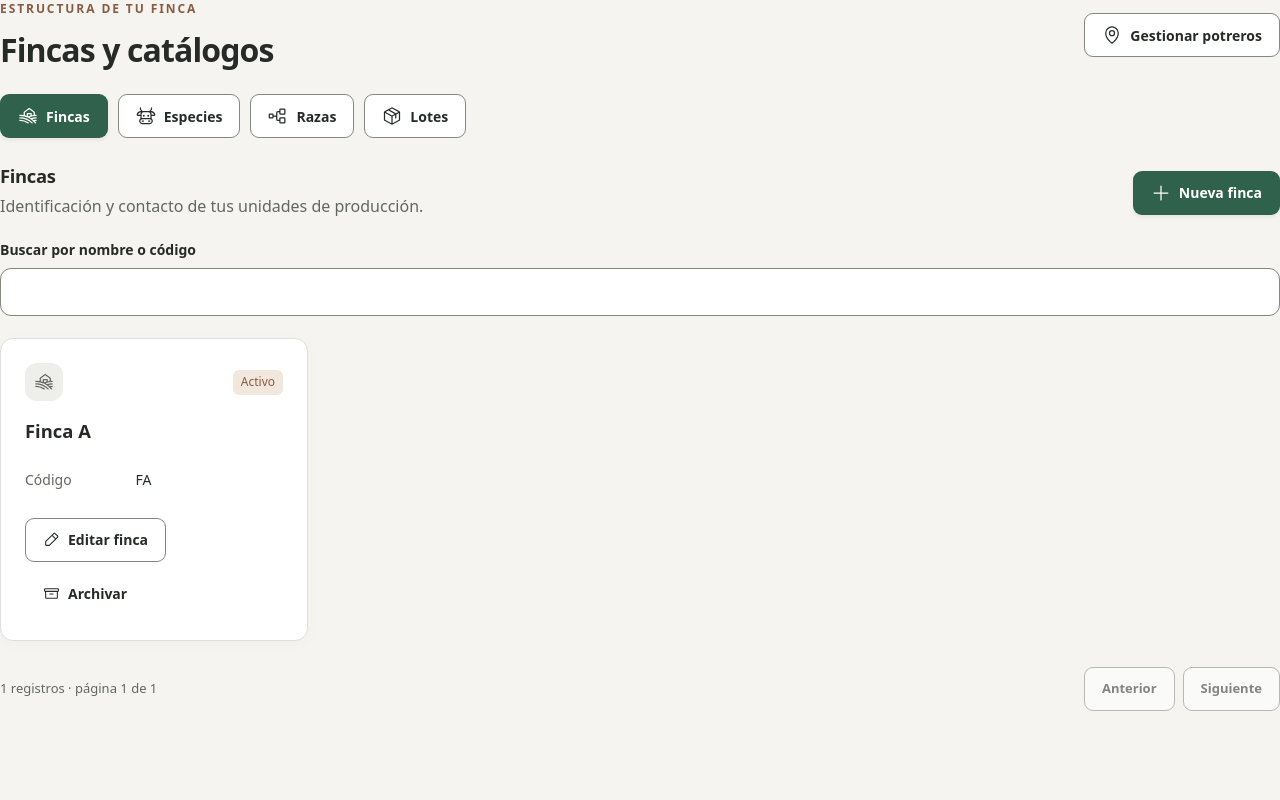
Test case: creates a farms record through its protected endpoint
Click the button "Nueva finca" at (1206, 193), box [1133, 171, 1279, 215]
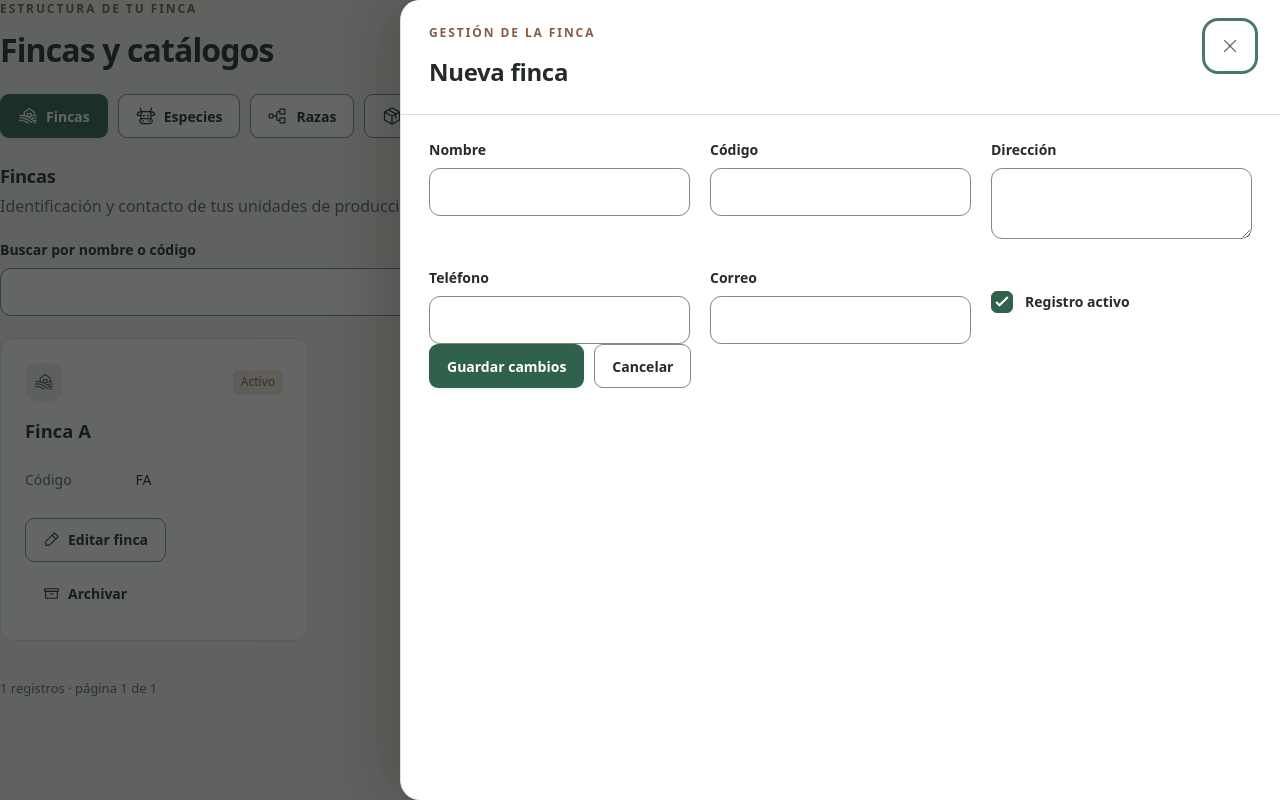
Type "Registro nuevo" into the field labelled "Nombre" at (560, 192), box [429, 168, 690, 216]
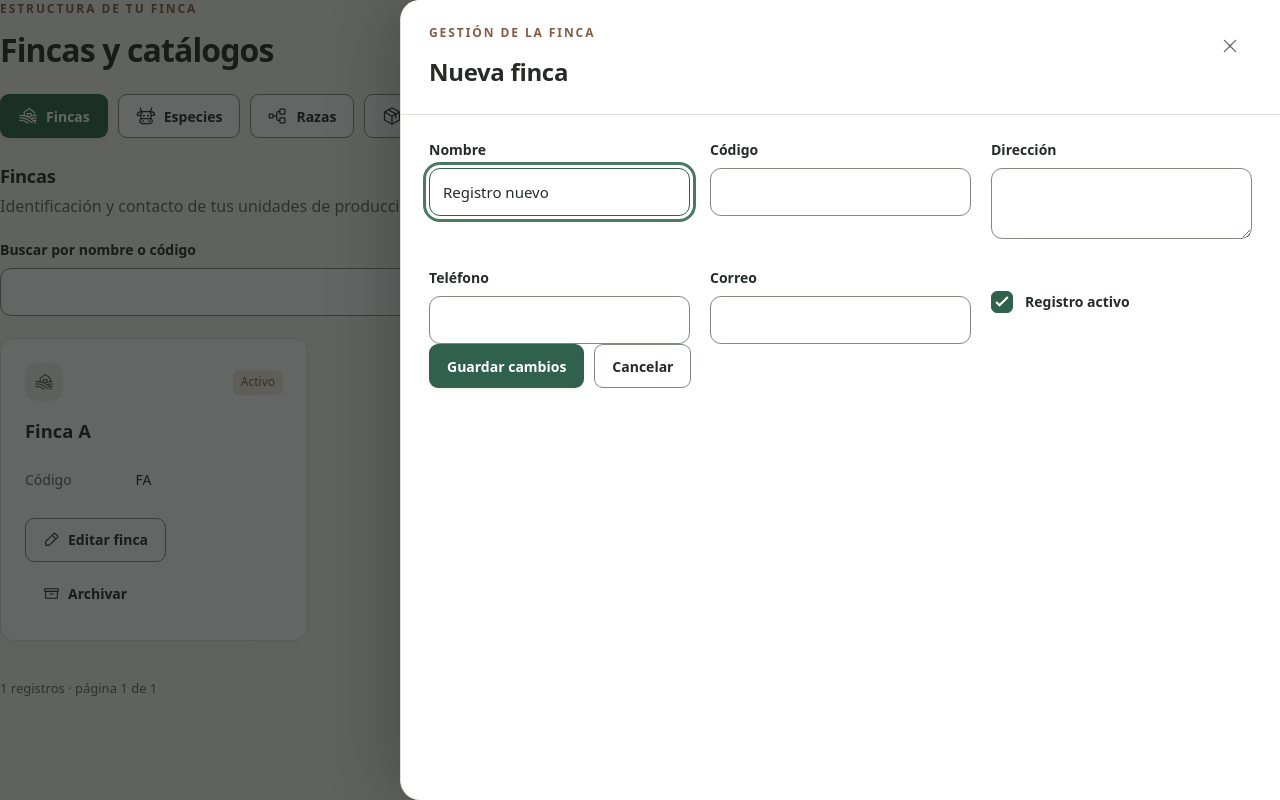
Type "NEW" into the field labelled "Código" at (840, 192), box [710, 168, 971, 216]
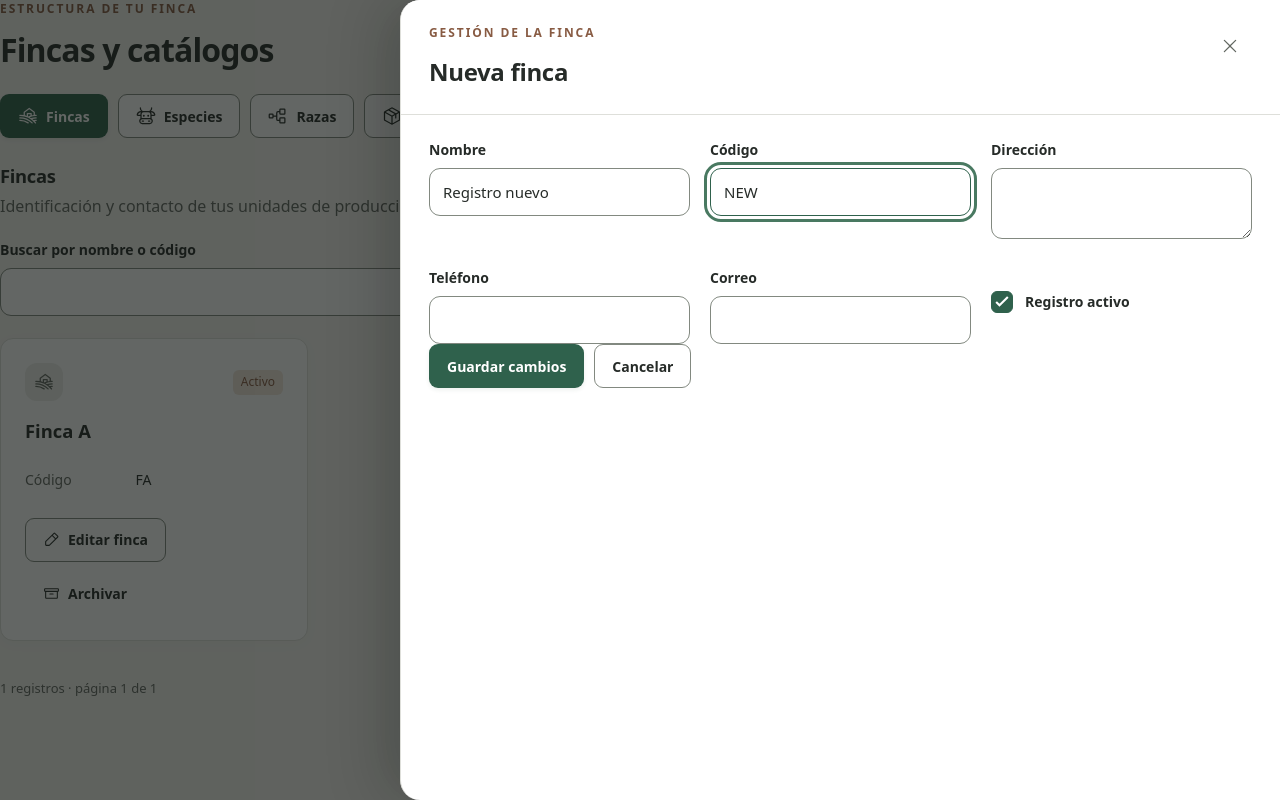
Click the button "Guardar cambios" at (507, 366), box [429, 344, 584, 388]
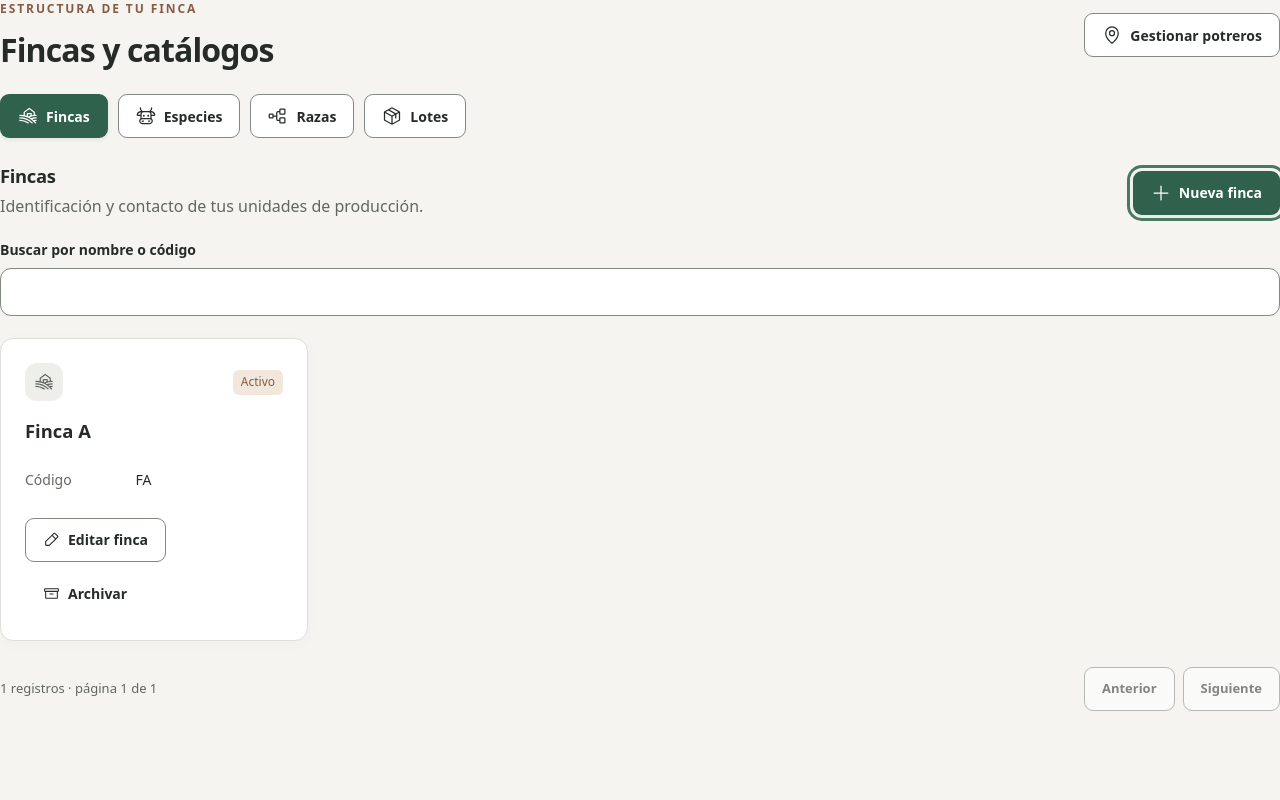
Expected: the dialog is gone
